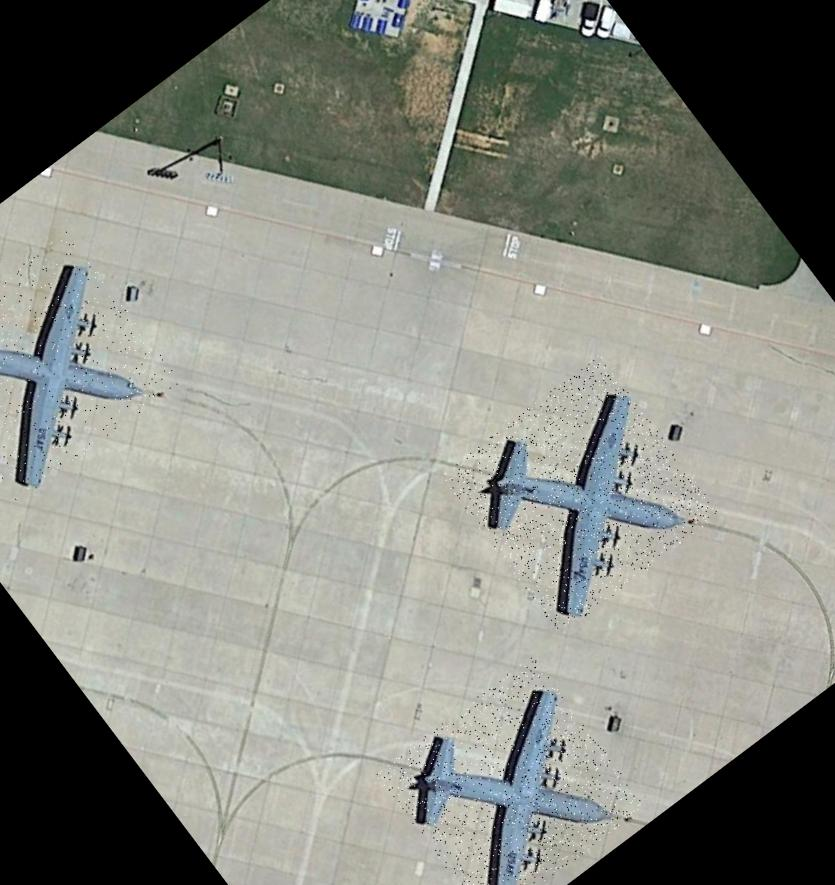A2: (439, 354, 720, 635), (374, 655, 645, 885), (0, 230, 180, 503)
